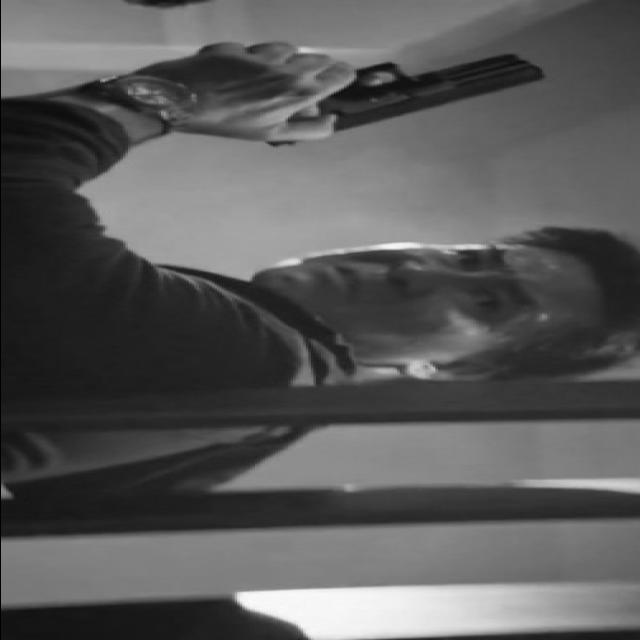weapons: (160, 34, 574, 154)
